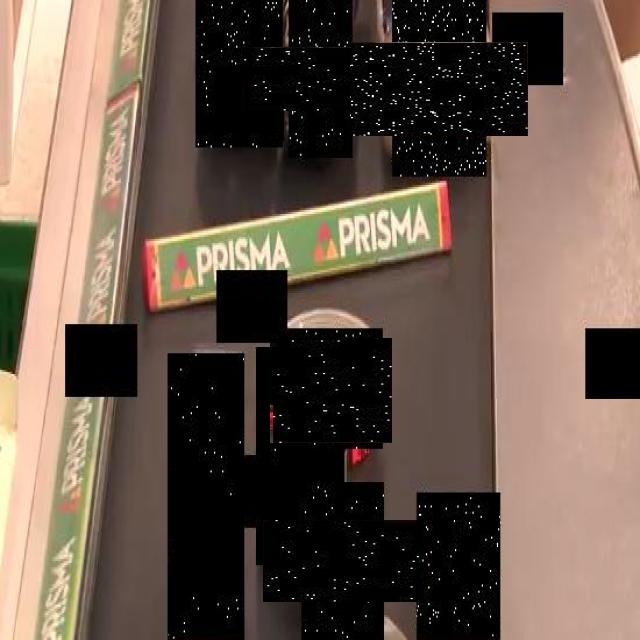beverage: (195, 0, 283, 148), (265, 24, 375, 134)
food-box: (257, 347, 347, 565), (372, 21, 507, 156), (282, 501, 403, 621), (274, 334, 387, 447), (416, 492, 501, 640)
utility-box: (168, 353, 244, 640)
